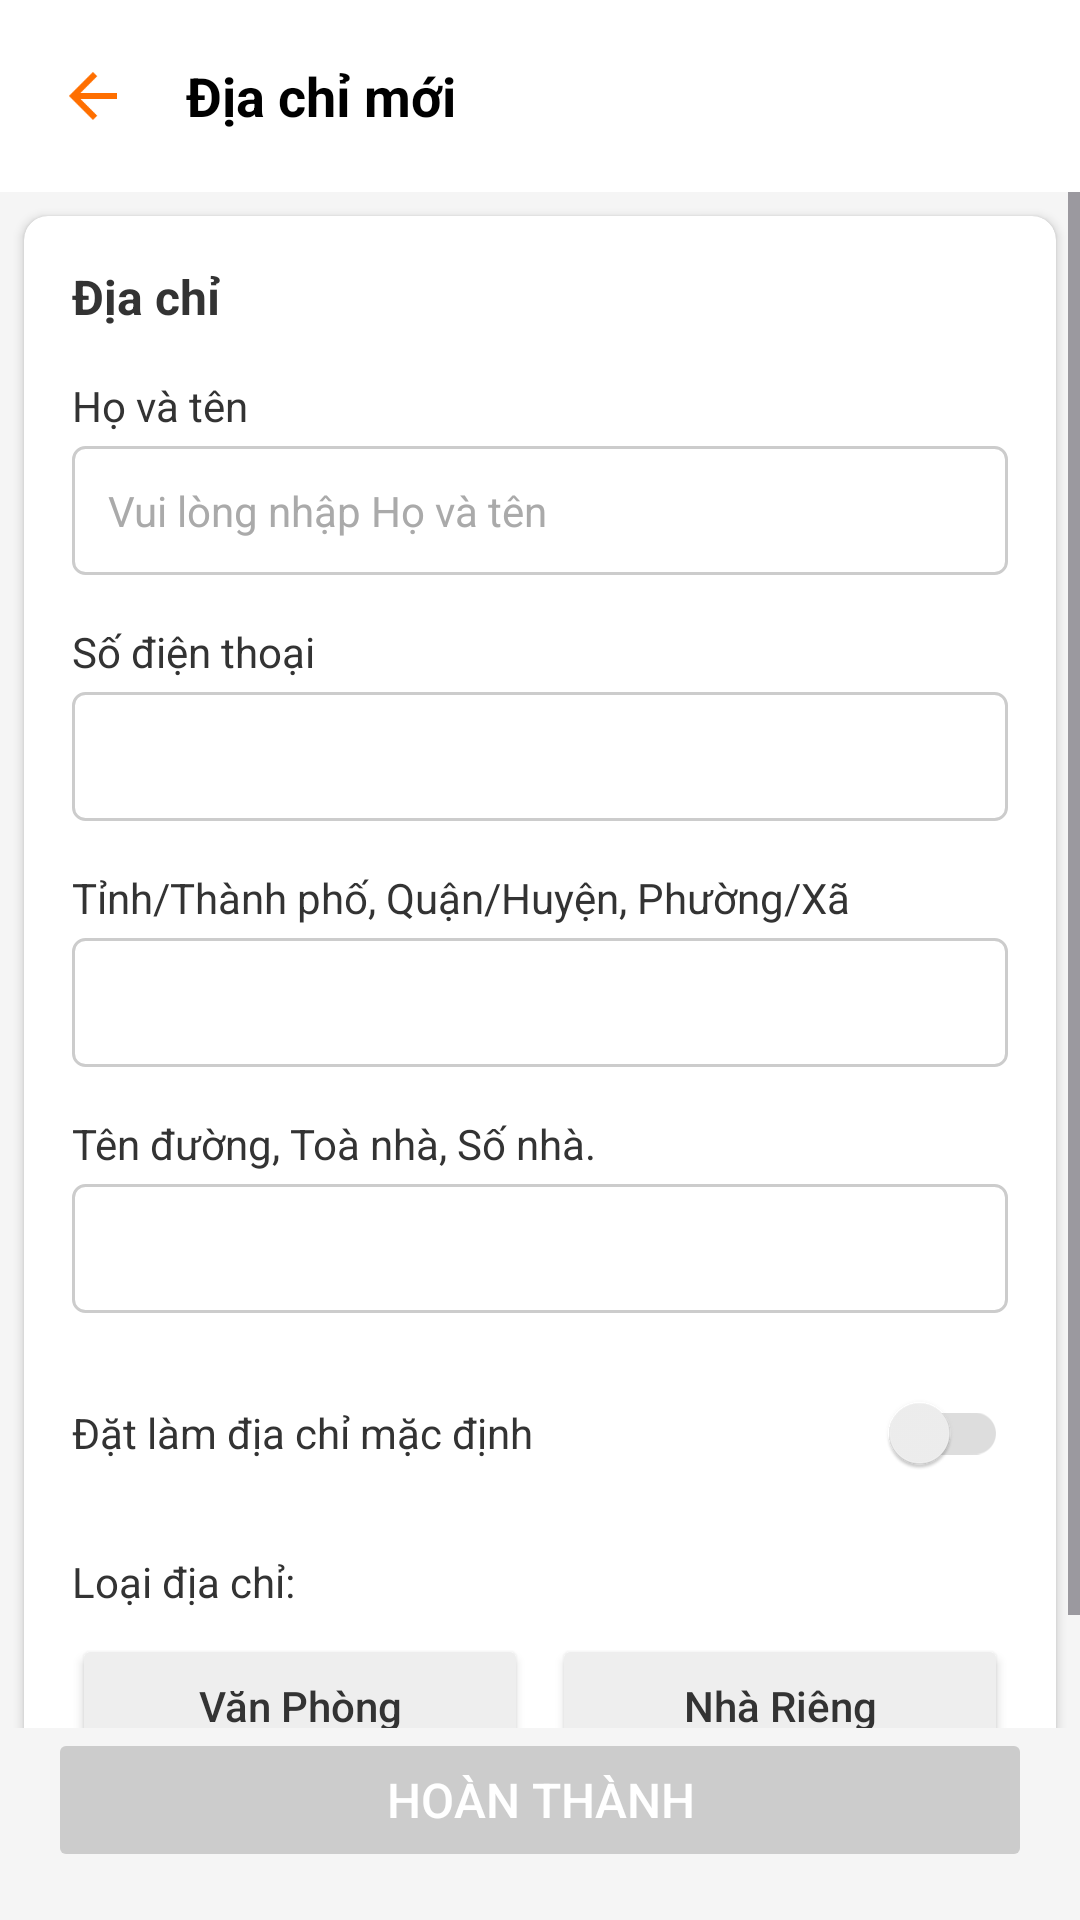

Icons on this 1080×1920 Android screen, each with the point to tap as (x,y):
left: (93,96)
